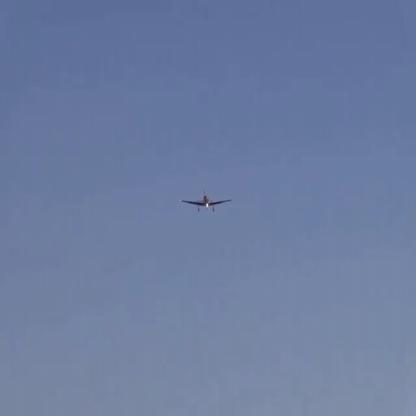CIV_Plane: (180, 189, 232, 212)
